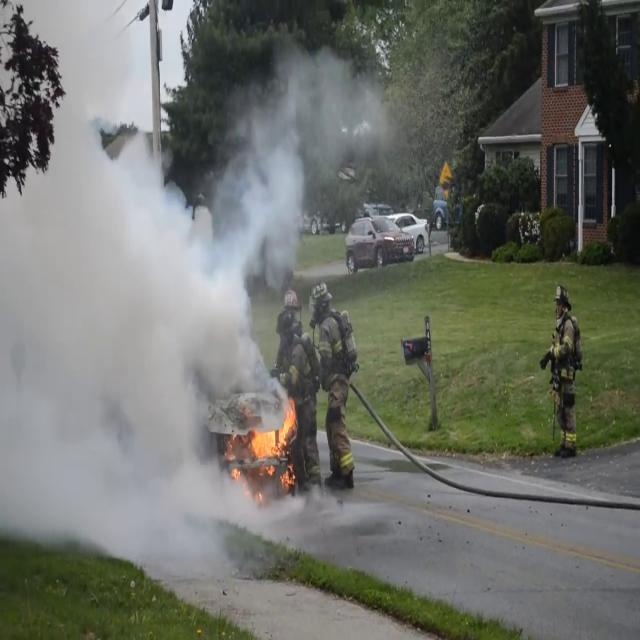Fire: (247, 398, 299, 486)
Smoke: (0, 22, 324, 572)
